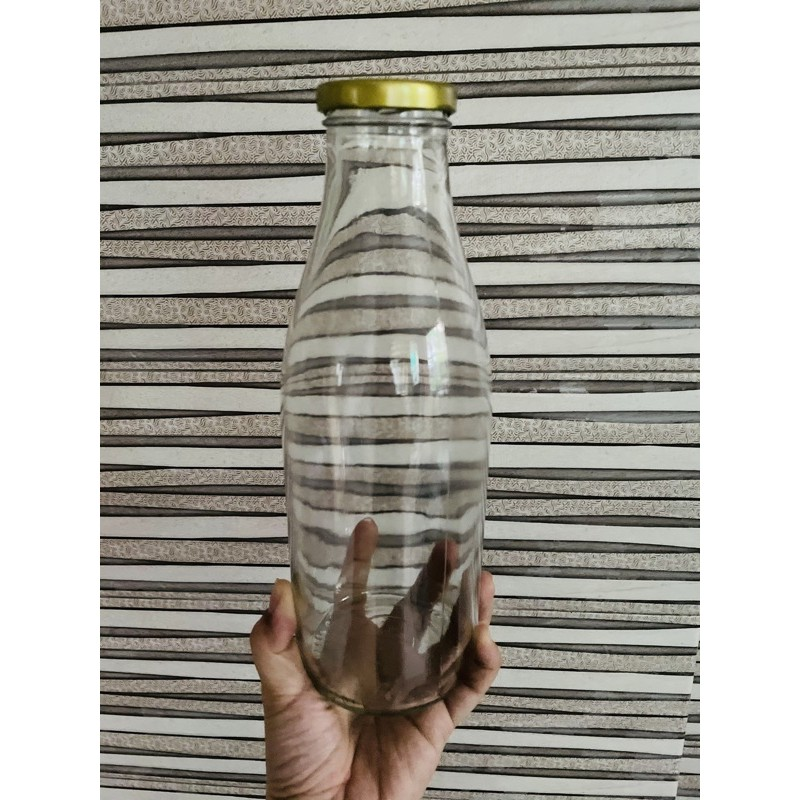glass_bottle: (268, 66, 495, 714)
